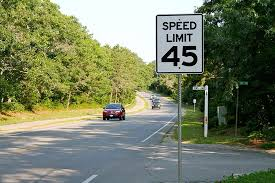speedLimit45: (154, 13, 206, 74)
